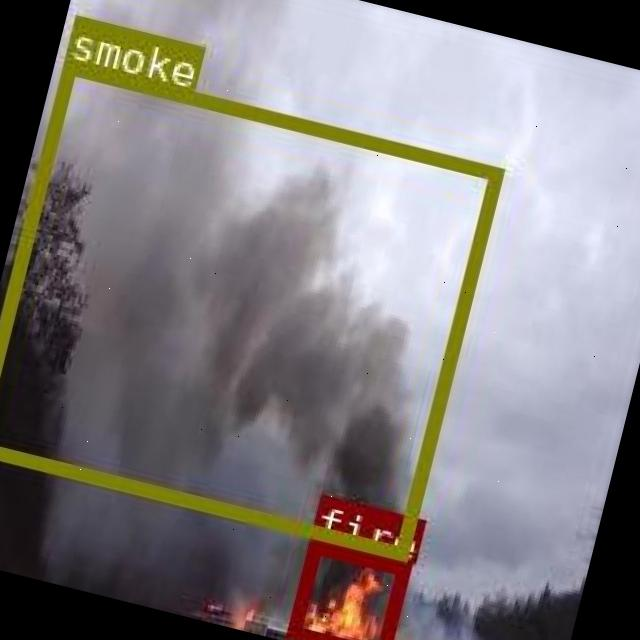fire: (285, 536, 408, 640)
smoke: (0, 56, 501, 556)
